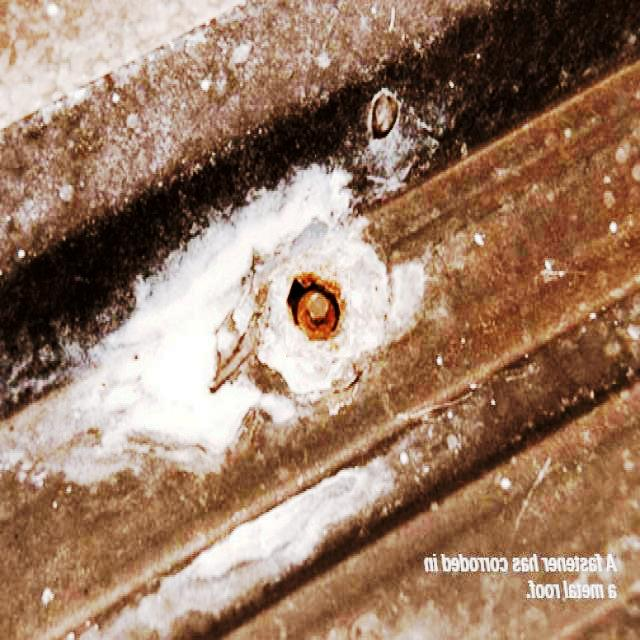Corrosion: (288, 279, 340, 341)
